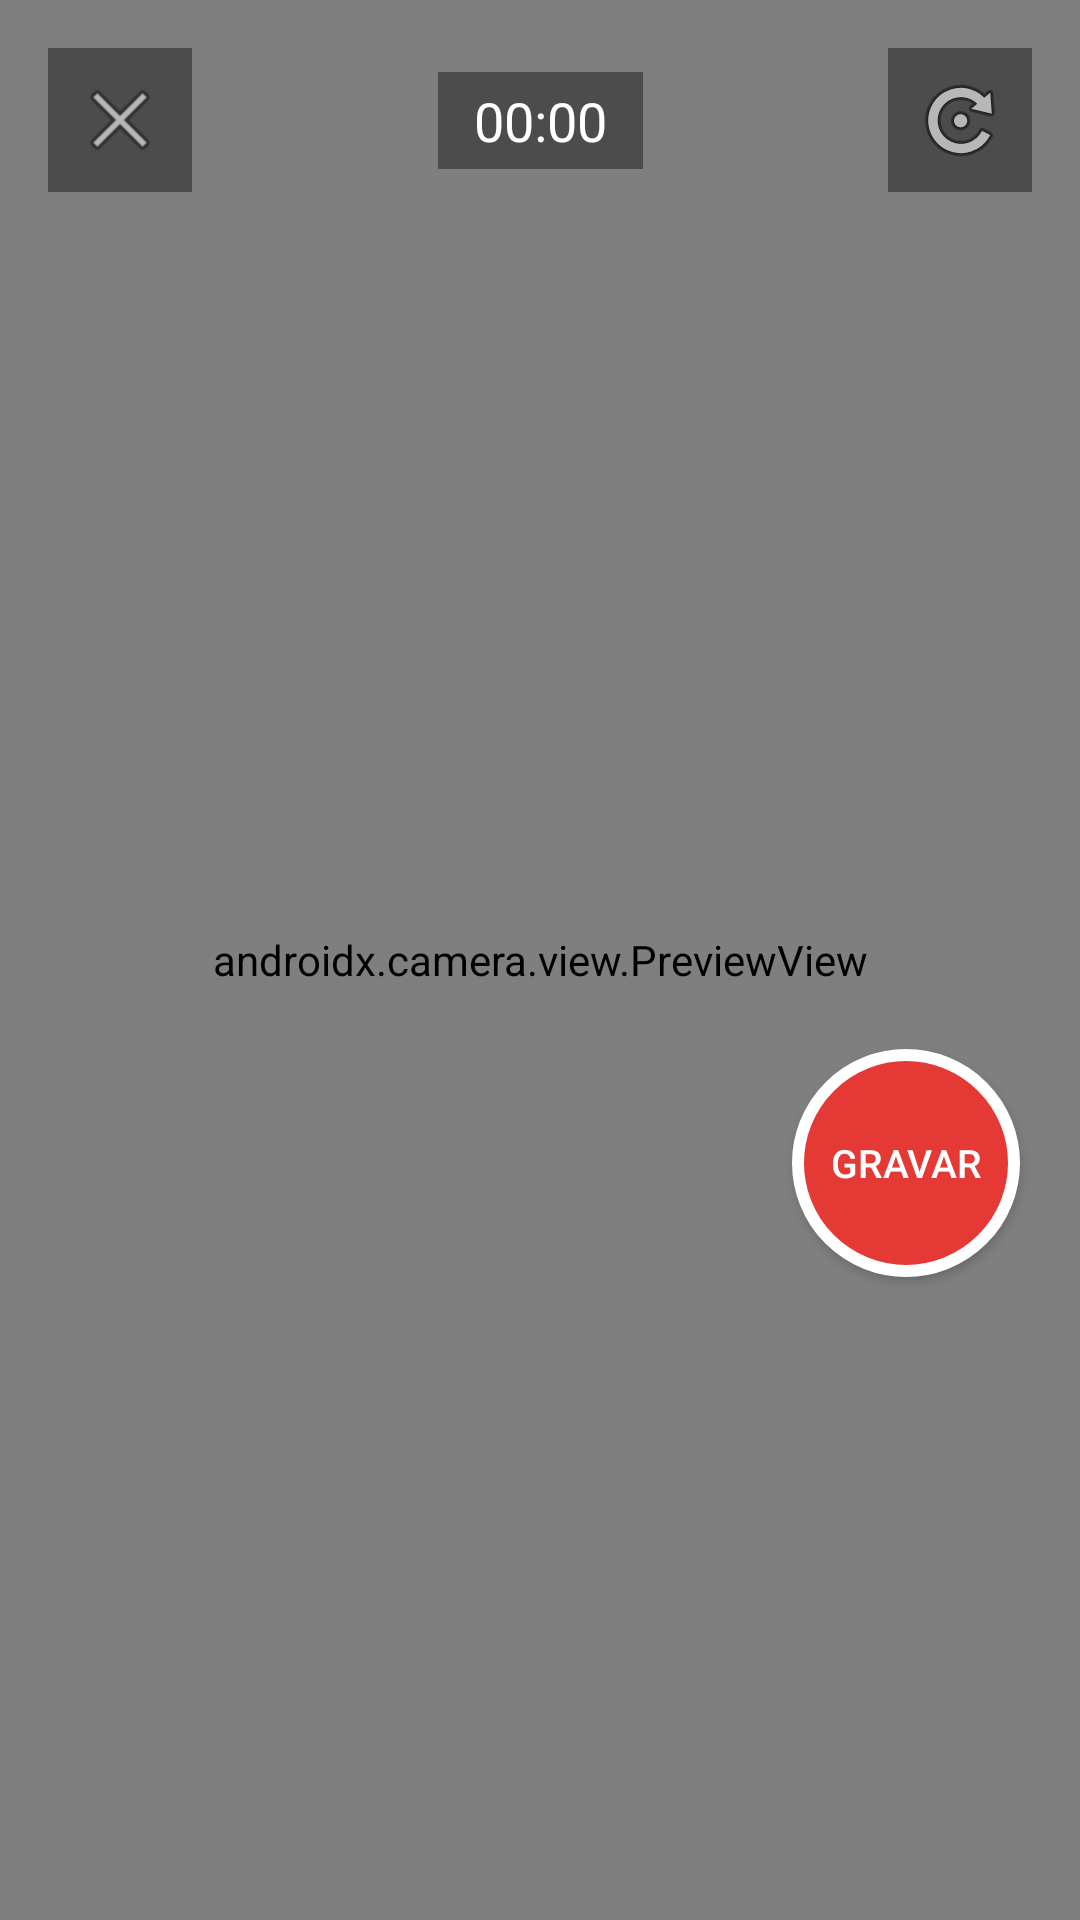

Where icons sit on this 1080x1920 app screen, as (left=x1, top=y1, right=x2, bottom=y2):
Fechar: (left=48, top=48, right=192, bottom=192)
Trocar câmera: (left=888, top=48, right=1032, bottom=192)
